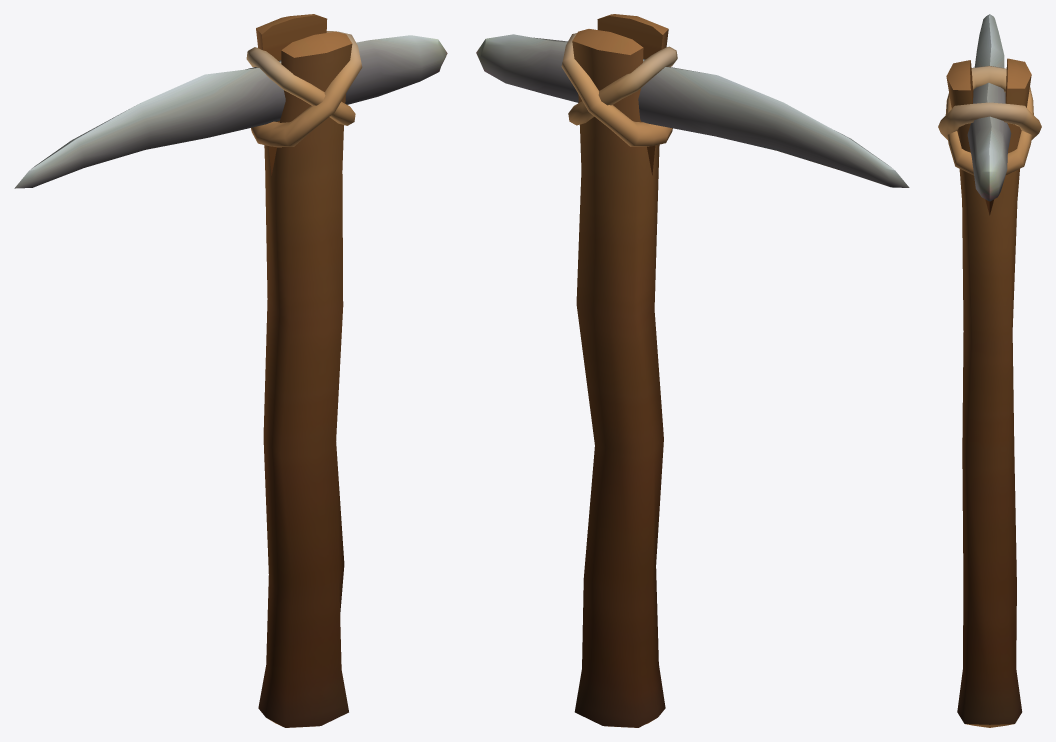
Rendered from Pickaxe_01.glb.
3 renders of one model, left to right at view 1: azimuth 30°, elevation 25°; view 2: azimuth 150°, elevation 25°; view 3: azimuth 270°, elevation 25°, orthographic. The views are drawn at different scales.
Parts seen in each view (by area): view 1: Pickaxe_01; view 2: Pickaxe_01; view 3: Pickaxe_01.
Part boxes in pixels (x1,y1,x2,y2): Pickaxe_01: [14, 14, 447, 727]; Pickaxe_01: [476, 14, 909, 727]; Pickaxe_01: [938, 14, 1041, 727].
Bounding box in the file's own units: 0.6727 × 1.03 × 0.1488.
Materials: 1 (1 with a texture image).
